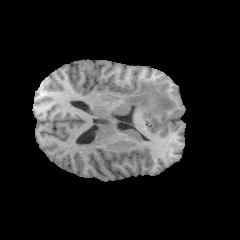glioma: (124, 81, 176, 116)
